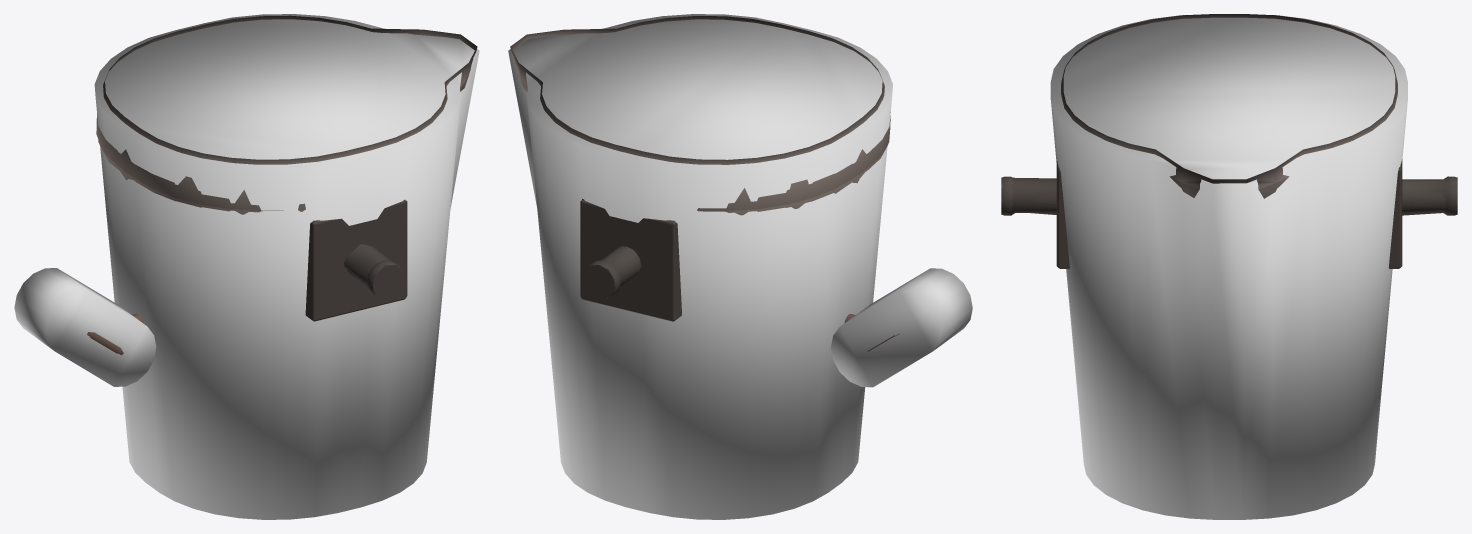
Rendered from s_steel_factory_crucible_01.dae.
3 views of the same model, side by side, from view 1: azimuth 30°, elevation 25°; view 2: azimuth 150°, elevation 25°; view 3: azimuth 270°, elevation 25° (orthographic).
Parts seen in each view (by area): view 1: Colmesh_s_factory_crucible-1, s_factory_crucible_a800, s_factory_crucible_a250; view 2: Colmesh_s_factory_crucible-1, s_factory_crucible_a800, s_factory_crucible_a250; view 3: Colmesh_s_factory_crucible-1, s_factory_crucible_a800, s_factory_crucible_a250.
Boxes of the visible parts, <box> form: Colmesh_s_factory_crucible-1: <box>14,14,479,519</box>; s_factory_crucible_a800: <box>87,15,476,353</box>; s_factory_crucible_a250: <box>96,16,477,318</box>; Colmesh_s_factory_crucible-1: <box>508,14,972,519</box>; s_factory_crucible_a800: <box>510,16,894,351</box>; s_factory_crucible_a250: <box>510,16,899,336</box>; Colmesh_s_factory_crucible-1: <box>1050,15,1407,519</box>; s_factory_crucible_a800: <box>1001,14,1457,268</box>; s_factory_crucible_a250: <box>1001,14,1457,215</box>.
Bounding box in the file's own units: 4.31 × 3.84 × 3.46.
